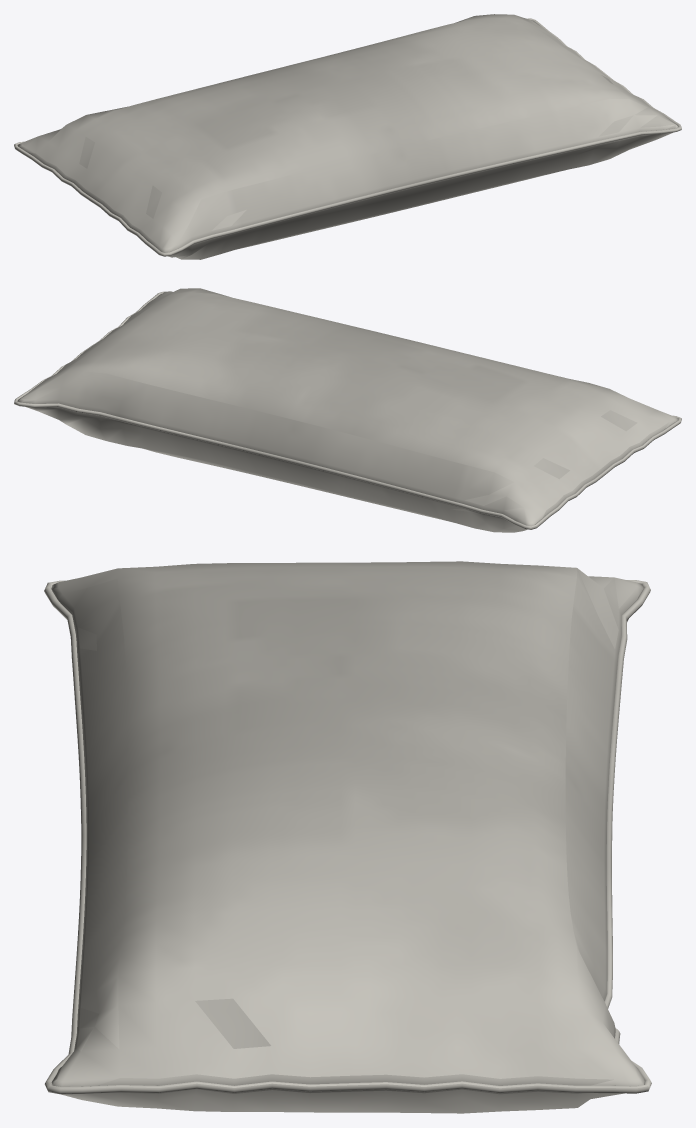
File: pillow.glb
3 renders of one model, top to bottom at view 1: azimuth 30°, elevation 25°; view 2: azimuth 150°, elevation 25°; view 3: azimuth 270°, elevation 25°, orthographic. The views are drawn at different scales.
Visible parts, largest first — view 1: pillow; view 2: pillow; view 3: pillow.
Part boxes in pixels (x1,y1,x2,y2): pillow: (14, 14, 681, 259); pillow: (14, 288, 681, 532); pillow: (44, 561, 651, 1113).
Bounding box in the file's own units: 0.6505 × 0.1371 × 0.3276.
Materials: 1 (1 with a texture image).
